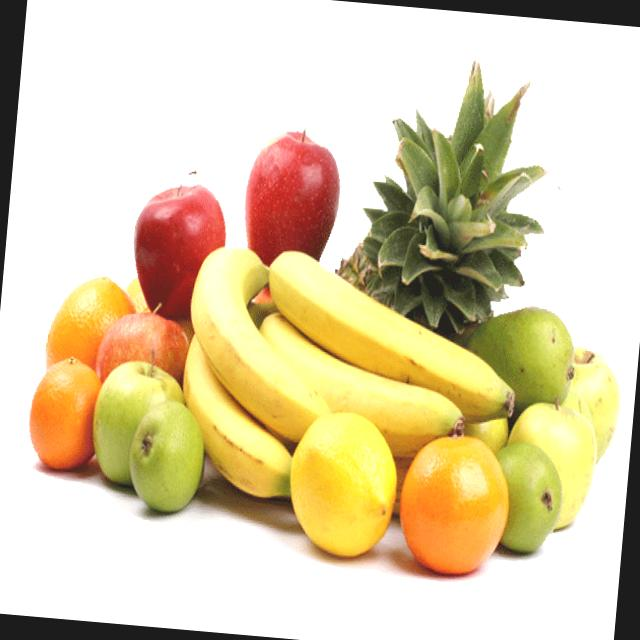apple: (107, 165, 236, 334), (228, 126, 352, 290)
banana: (250, 243, 522, 417), (168, 235, 346, 468), (230, 304, 478, 468), (158, 310, 312, 516)
orange: (392, 425, 522, 585), (34, 274, 144, 399), (19, 359, 110, 479)
